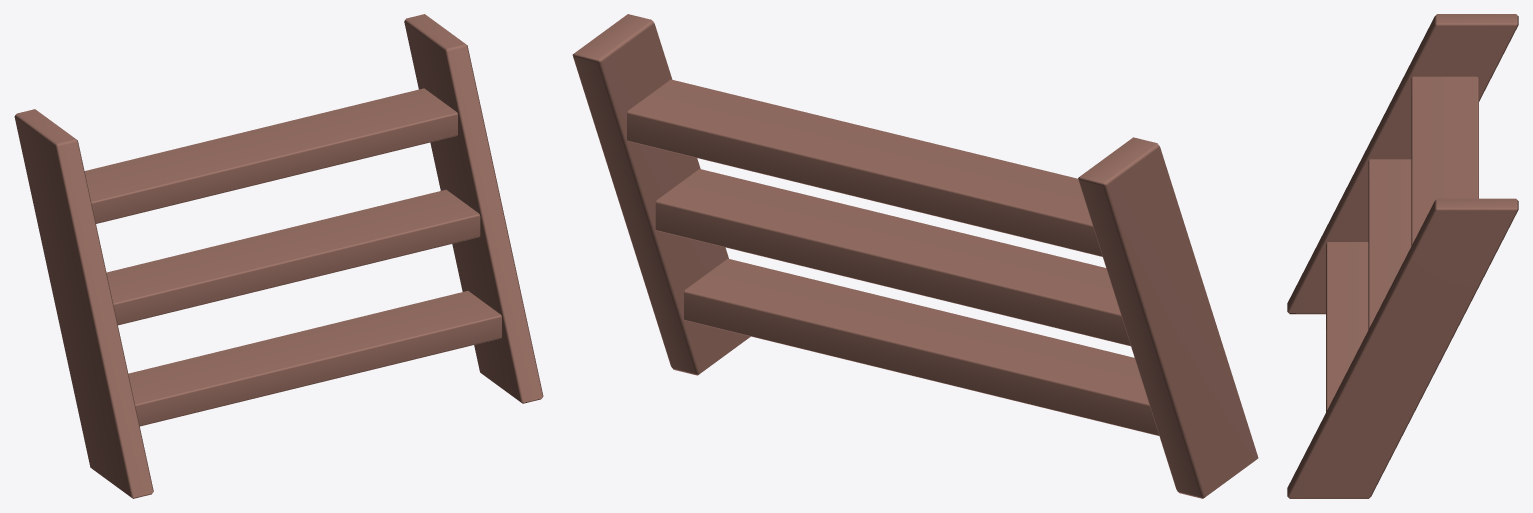
File: Store_10_Shelf_1.glb
3 renders of one model, left to right at view 1: azimuth 30°, elevation 25°; view 2: azimuth 150°, elevation 25°; view 3: azimuth 270°, elevation 25°, orthographic. The views are drawn at different scales.
Parts seen in each view (by area): view 1: Store_10_Shelf_1; view 2: Store_10_Shelf_1; view 3: Store_10_Shelf_1.
Boxes of the visible parts, x1,y1,x2,y2 form: Store_10_Shelf_1: (14,14,543,498); Store_10_Shelf_1: (572,14,1258,498); Store_10_Shelf_1: (1287,14,1518,498).
Size of the model in its own units: 3.04 by 2.12 by 1.52.
1 material, 1 textured.
